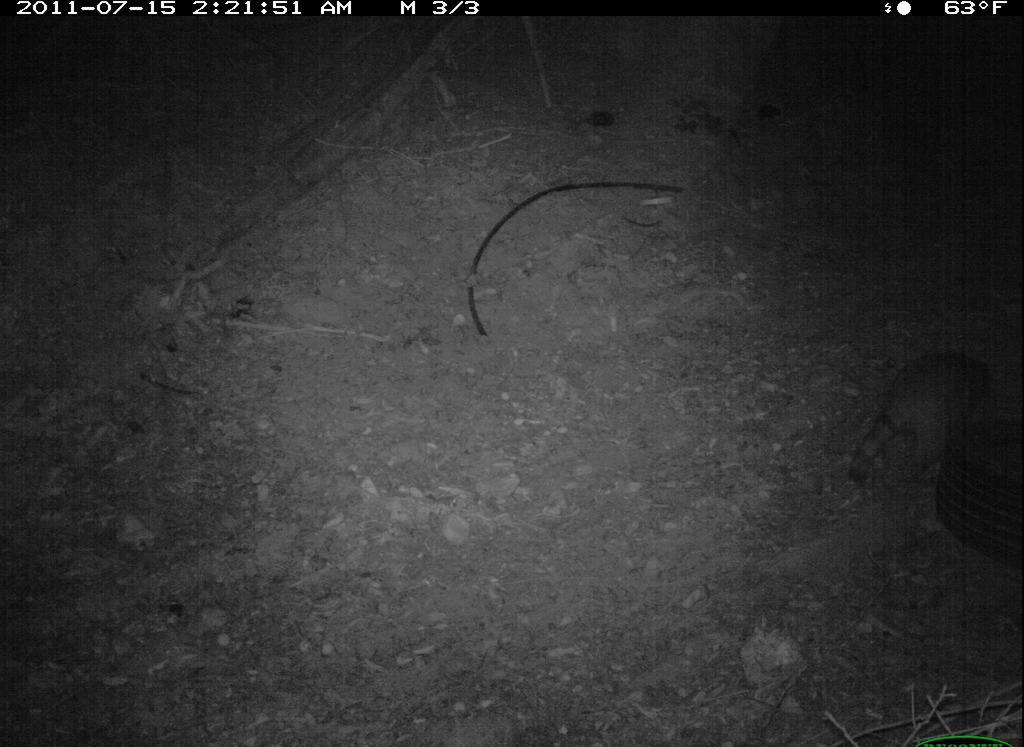raccoon: (844, 337, 1009, 497)
